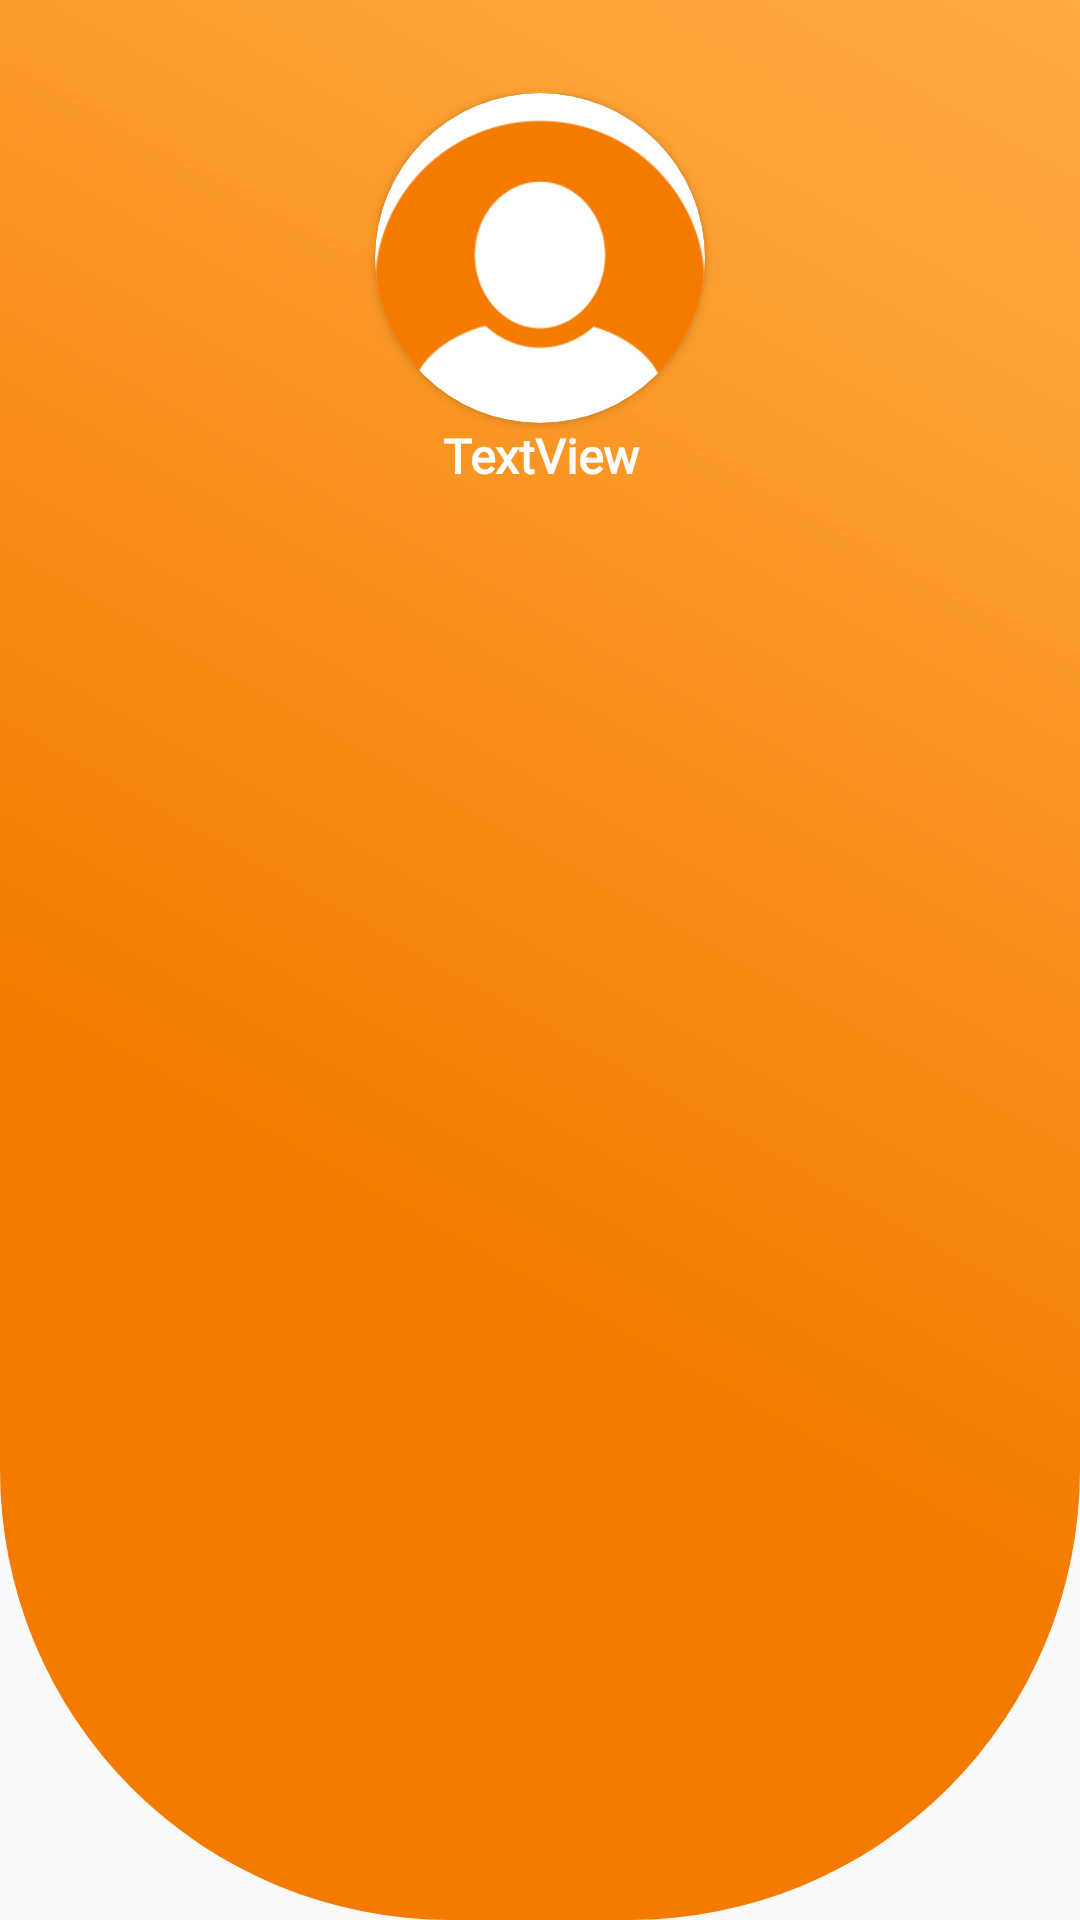

Locate icon controls on the screen. Image size 1080px x 1920px, boxes as (x1, y1, x2, y2).
user: (375, 93, 705, 423)
